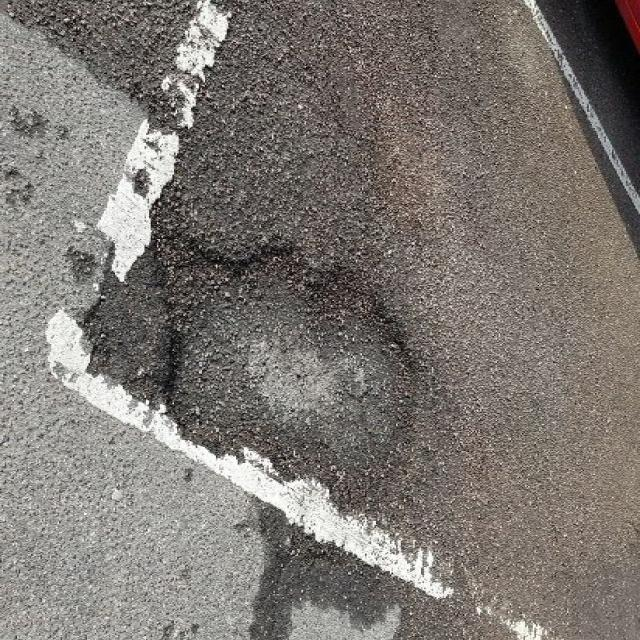pothole: (136, 223, 436, 496)
